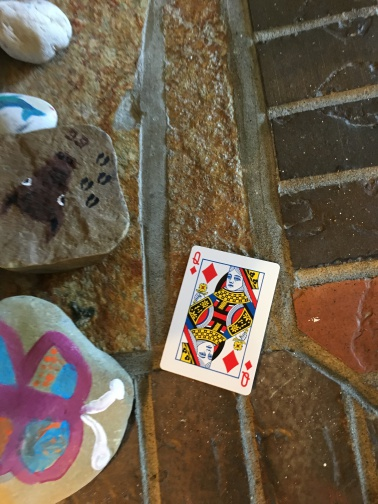queen: (160, 243, 282, 395)
